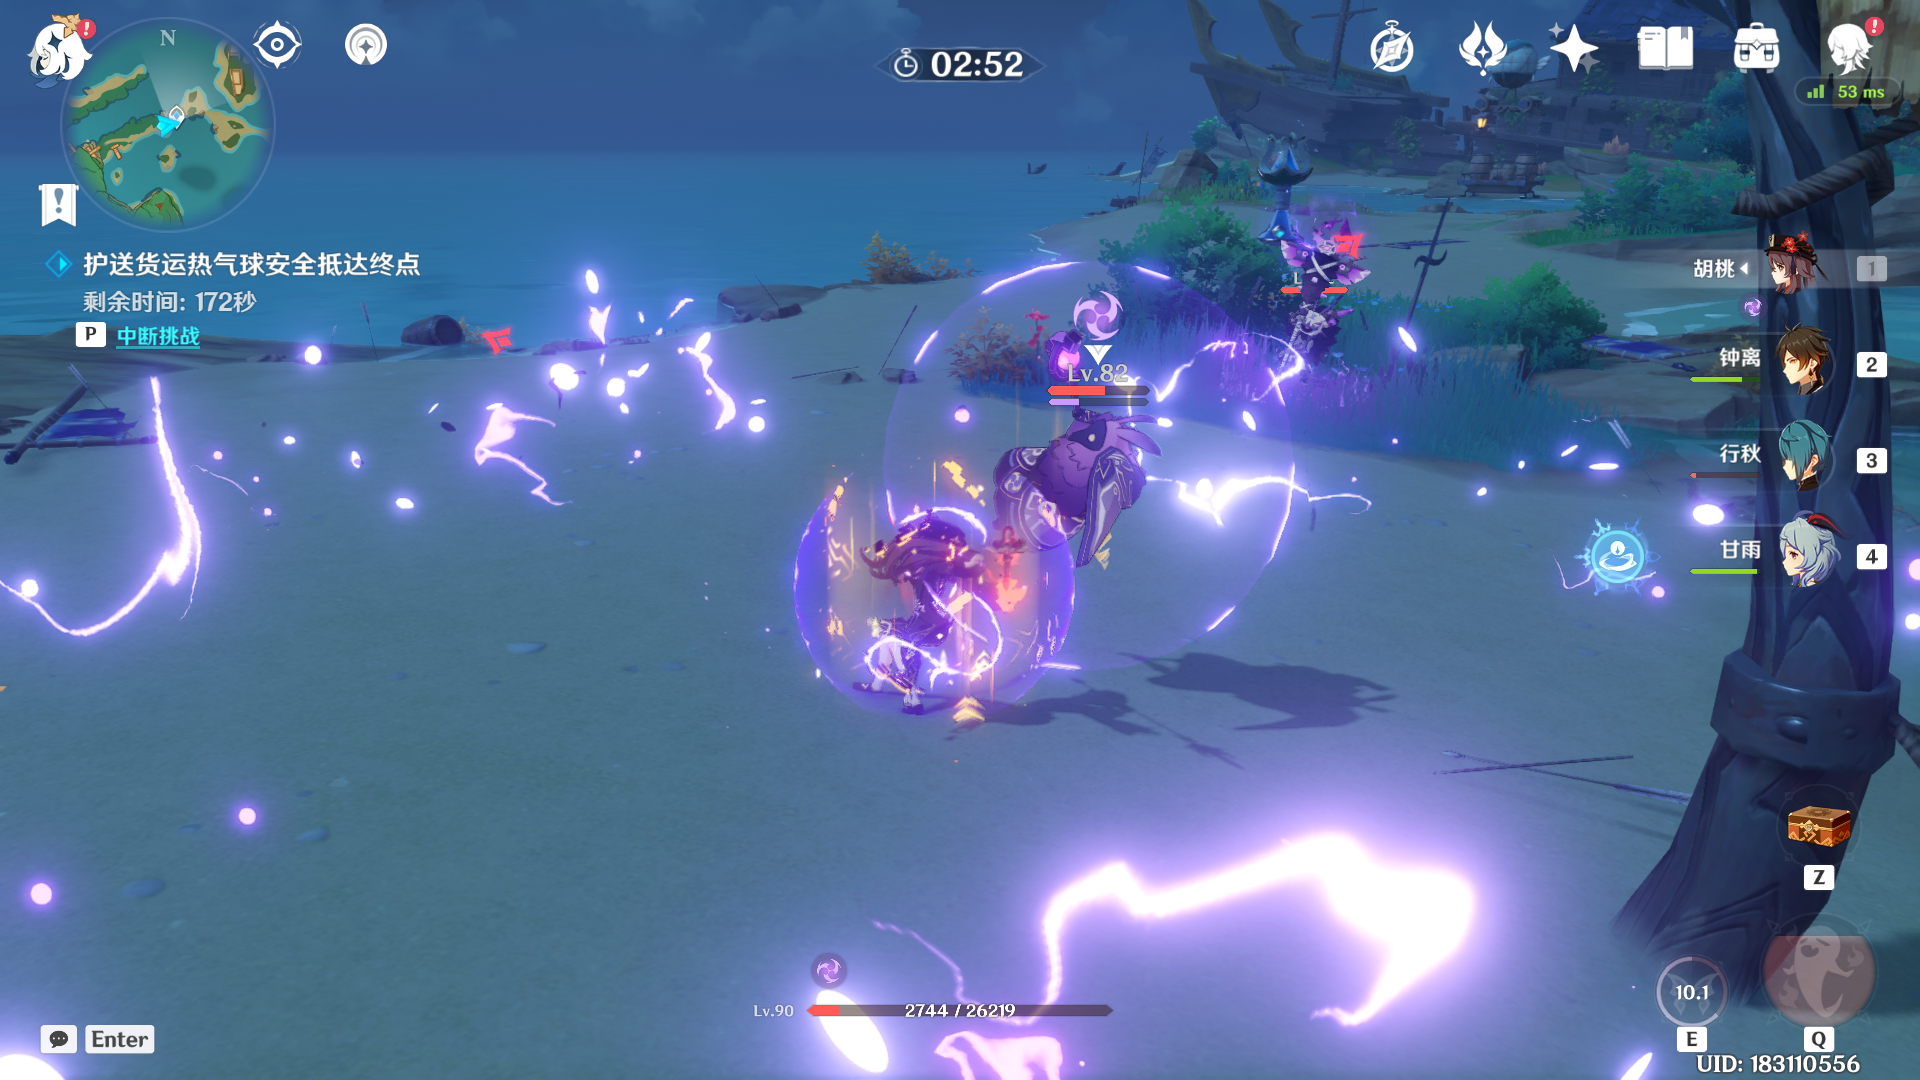caster: (923, 348, 1244, 607)
character: (829, 485, 1059, 731)
hili: (1215, 193, 1348, 406)
